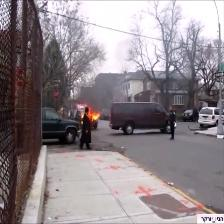fire: (90, 111, 101, 121)
